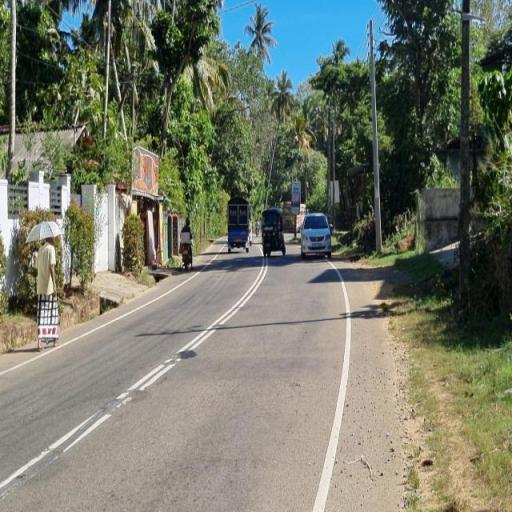double_white_line: (112, 260, 270, 407), (0, 394, 112, 491)
